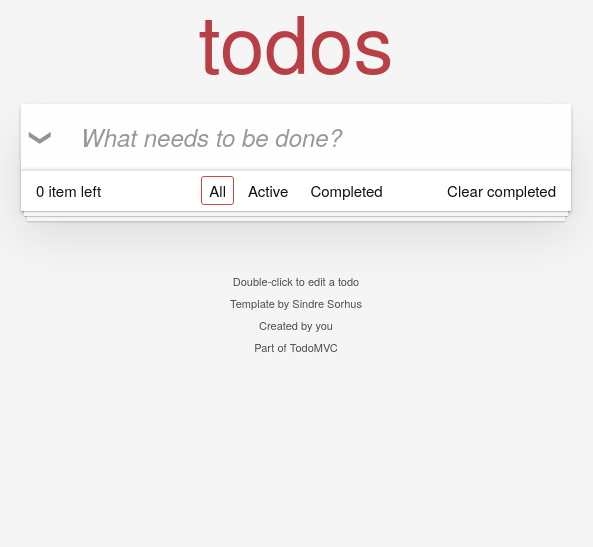
Scenario: Main › work with one todo › edit first item
Type "0" into the field with test id "newTodo" at x=296, y=137, box x1=21 y1=104 x2=571 y2=169
Press Enter in the field with test id "newTodo", box x1=21 y1=104 x2=571 y2=169
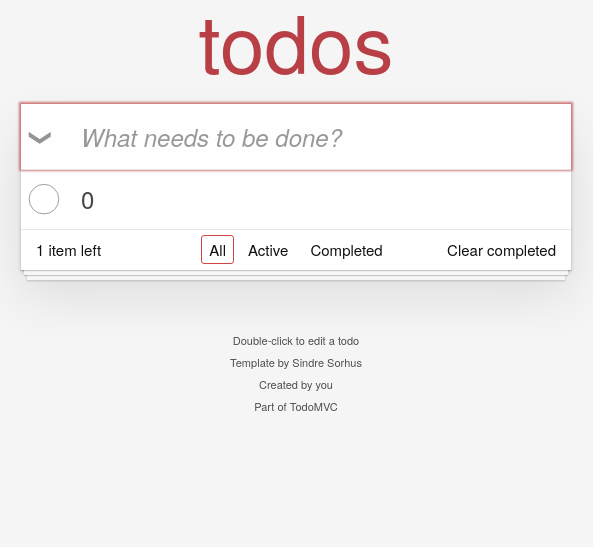
Type "1" into the field with test id "newTodo" at x=296, y=137, box x1=21 y1=104 x2=571 y2=169
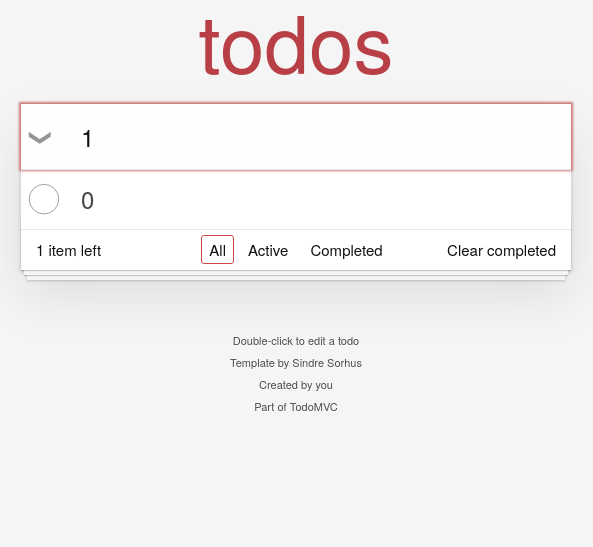
Press Enter in the field with test id "newTodo", box x1=21 y1=104 x2=571 y2=169
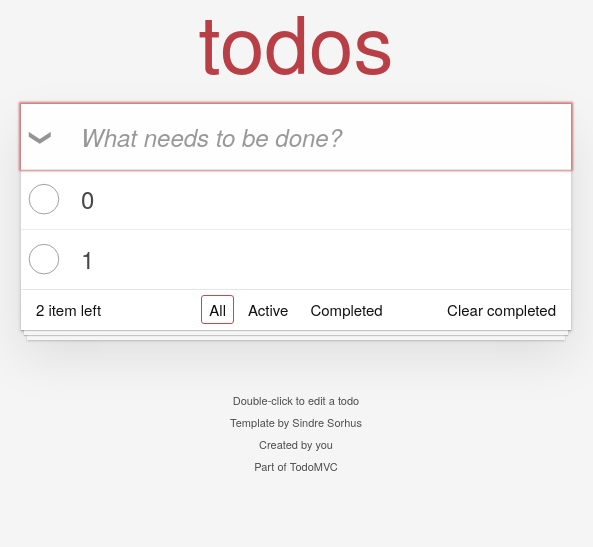
Type "2" into the field with test id "newTodo" at x=296, y=137, box x1=21 y1=104 x2=571 y2=169
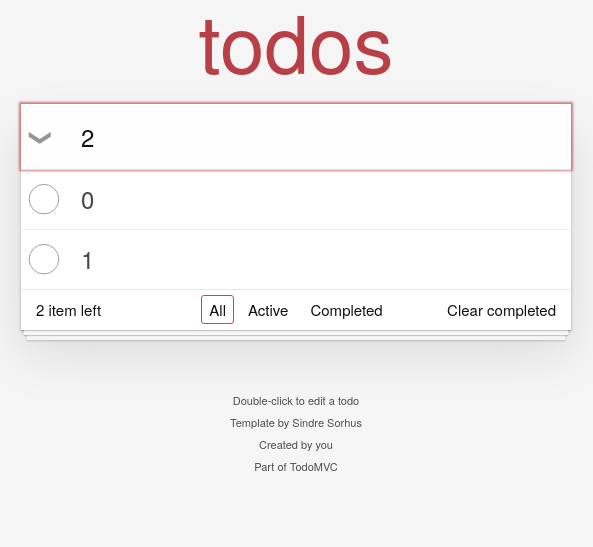
Press Enter in the field with test id "newTodo", box x1=21 y1=104 x2=571 y2=169
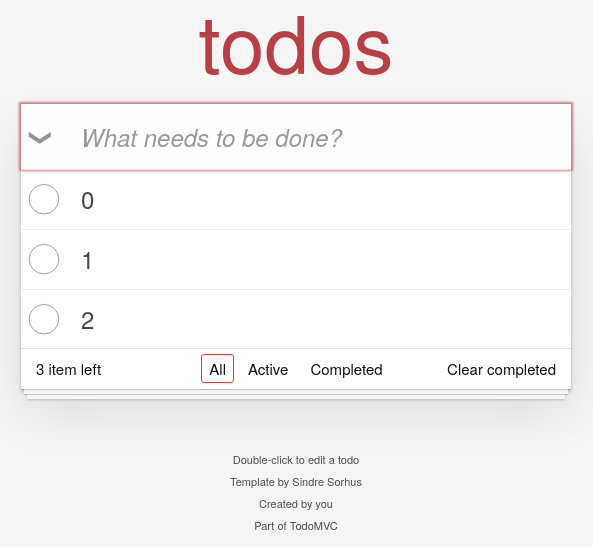
Double-click the label "0" at x=88, y=199, box x1=21 y1=170 x2=571 y2=229
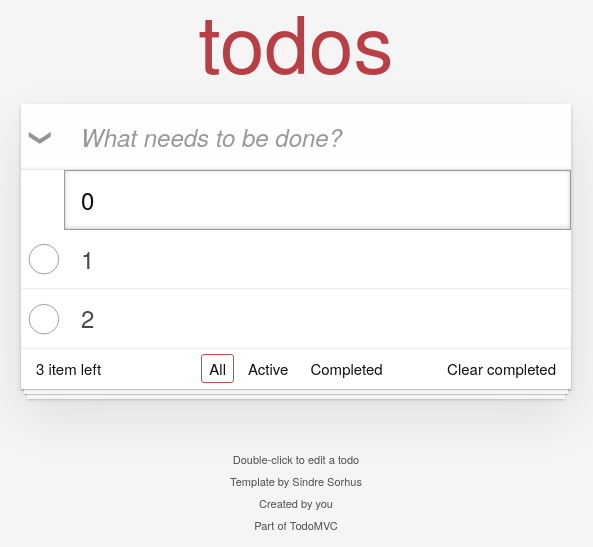
Check: the field with class "edit" is shown, box x1=64 y1=170 x2=571 y2=230
